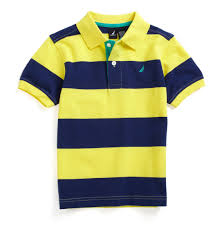C_polo shirt: (17, 21, 210, 211)
